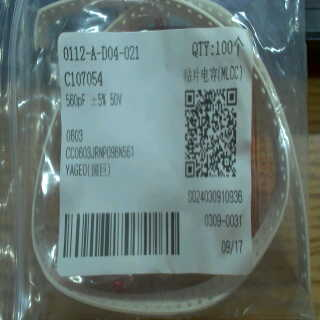560pF: (65, 91, 86, 109)
